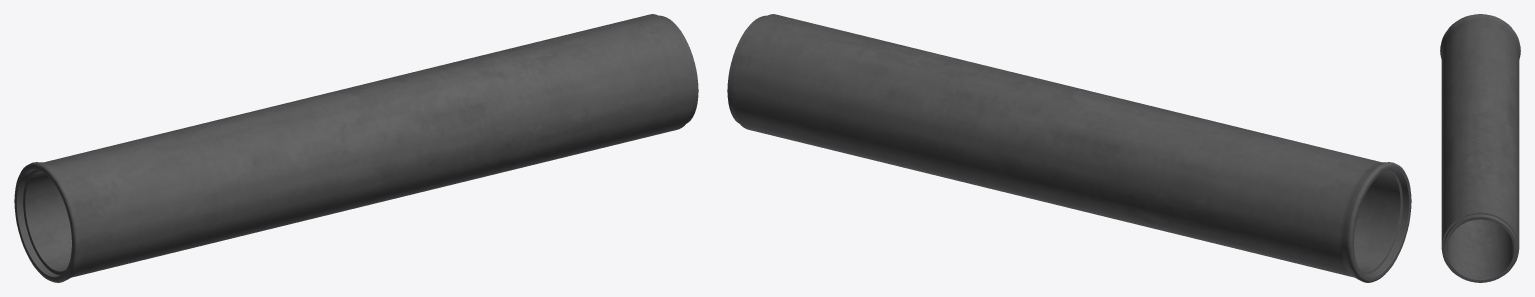
The model's file is Pipes_long_01.fbx.
3 renders of one model, left to right at view 1: azimuth 30°, elevation 25°; view 2: azimuth 150°, elevation 25°; view 3: azimuth 270°, elevation 25°, orthographic. The views are drawn at different scales.
Visible parts, largest first — view 1: Pipes_Long_LOD0; view 2: Pipes_Long_LOD0; view 3: Pipes_Long_LOD0.
Boxes of the visible parts, x1=… form: Pipes_Long_LOD0: x1=14, y1=14, x2=698, y2=282; Pipes_Long_LOD0: x1=727, y1=14, x2=1411, y2=282; Pipes_Long_LOD0: x1=1440, y1=14, x2=1520, y2=282.
Size of what is drawn, in the model's own units: 758 by 129 by 129.
